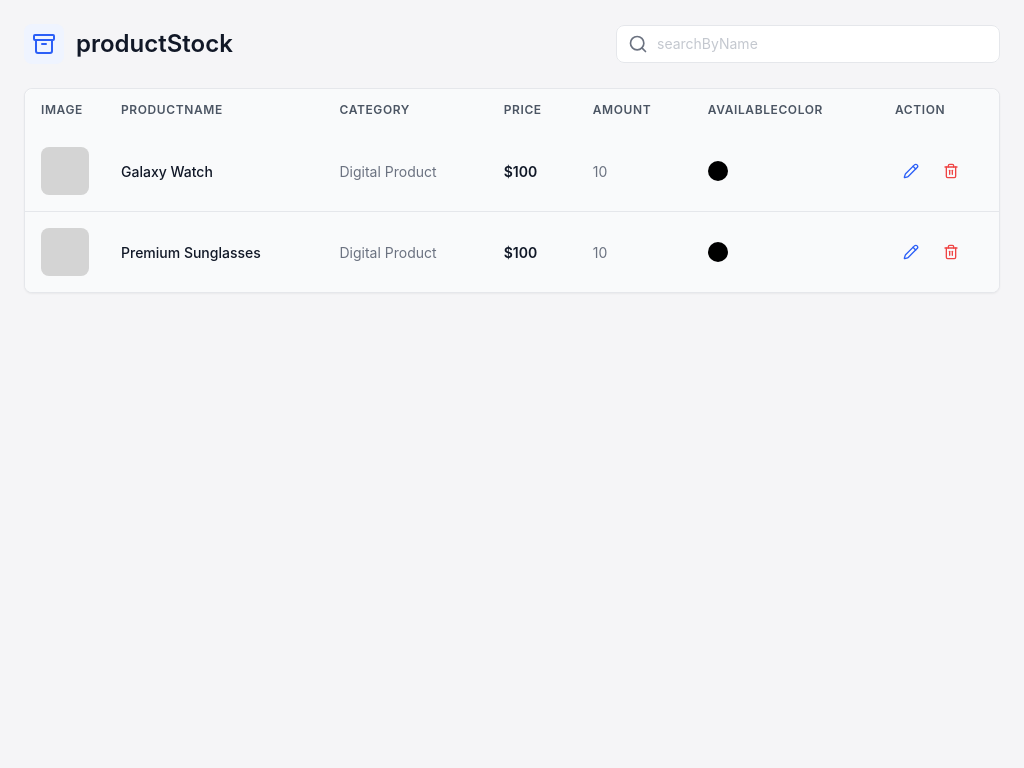
Test: ProductStock page › delete flow › opens the ConfirmModal when the trash button is clicked
Click the button named "delete Galaxy Watch" at [951, 171], box [935,155,967,187]
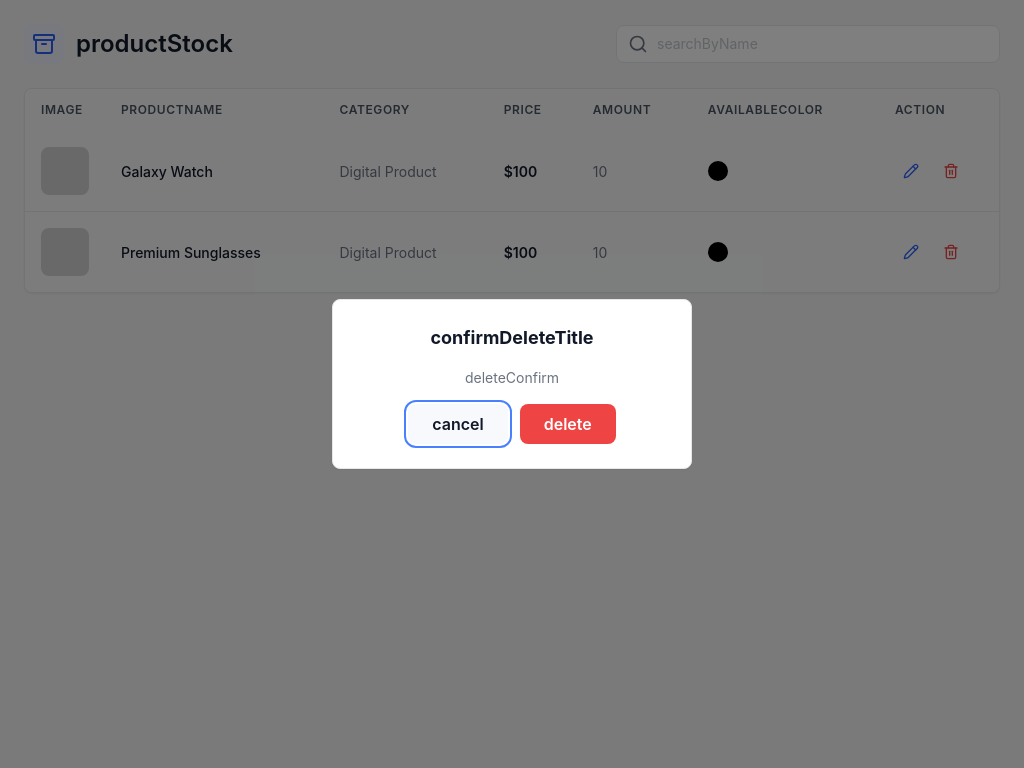
Expected: the dialog is shown, [332,299,692,469]
